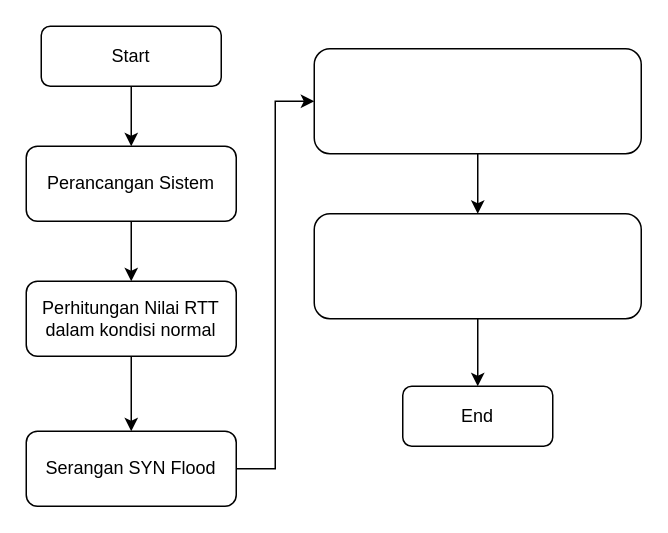
The diagram is 668 pixels wide and 533 high, and some of its shapes have lost their labels. Here are the shapes that lost their labels. From the top down, the centre of each, then its label:
At [477,100]: "Perhitungan Nilai RTT ketika terjadi serangan SYN Flood".
At [477,265]: "Perbandingan Pengukuran Nilai RTT sebelum dan sesudah adanya serangan SYN Flood".
